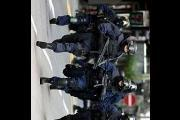gun: (88, 34, 109, 70), (91, 74, 109, 100), (88, 114, 112, 120)
